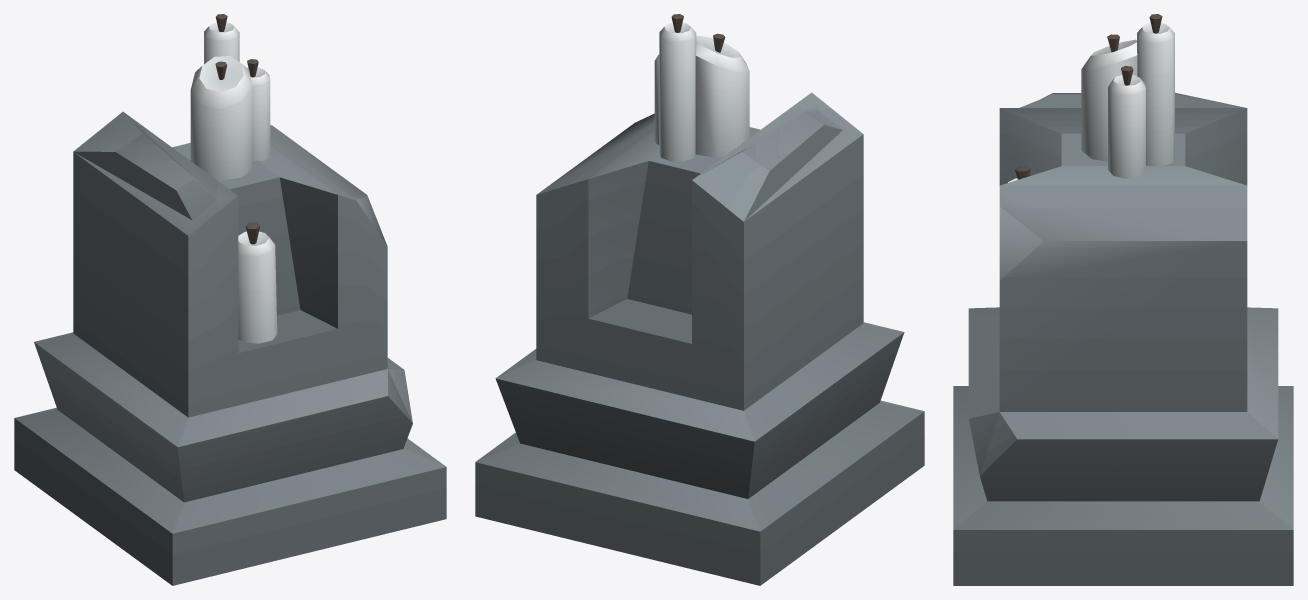
The model's file is hb_shrine_candles.glb.
3 views of the same model, side by side, from view 1: azimuth 30°, elevation 25°; view 2: azimuth 150°, elevation 25°; view 3: azimuth 270°, elevation 25° (orthographic). The views are drawn at different scales.
Visible parts, largest first — view 1: shrine_candles; view 2: shrine_candles; view 3: shrine_candles.
Boxes of the visible parts, x1,y1,x2,y2 form: shrine_candles: (14, 14, 446, 585); shrine_candles: (475, 14, 924, 585); shrine_candles: (953, 14, 1293, 585).
Size of the model in its own units: 0.9828 by 1.6 by 0.9828.
1 material, 1 textured.
